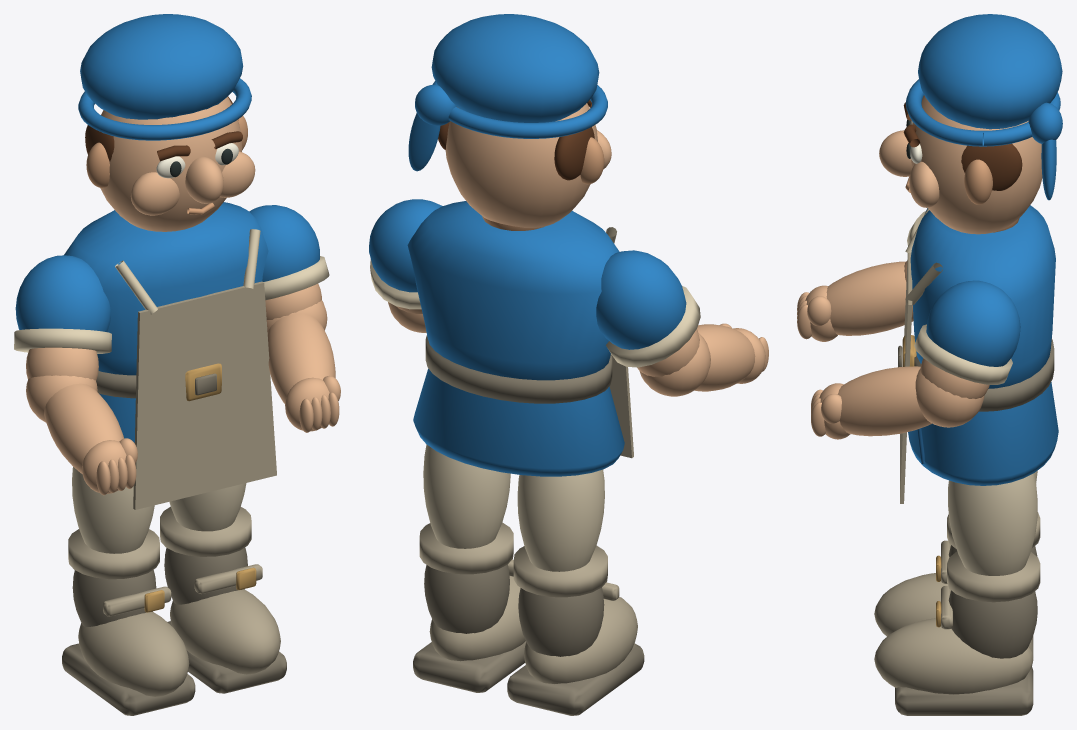
Rendered from tuinier_oogsten.glb.
The picture shows the model from 3 angles, left to right: view 1: azimuth 30°, elevation 25°; view 2: azimuth 150°, elevation 25°; view 3: azimuth 270°, elevation 25°; orthographic projection. The views are drawn at different scales.
Visible parts, largest first — view 1: Felt_work_apron.002, Tunic_torso.007, TEAM_Wool_work_cap.002, Head.007, Boot_toe.014, Boot_toe.015, Right_Sleeve.007, Trouser_leg.014, Right_Forearm.007, Left_Forearm.007, Left_Sleeve.007, TEAM_Rolled_cap_rim.002 (+26 smaller); view 2: Tunic_torso.007, Tunic_skirt.007, TEAM_Wool_work_cap.002, Head.007, Trouser_leg.014, Right_Sleeve.007, Trouser_leg.015, Boot_shaft.015, Boot_shaft.014, Belt.007, Boot_toe.014, Boot_sole.014 (+17 smaller); view 3: TEAM_Wool_work_cap.002, Tunic_torso.007, Tunic_skirt.007, Boot_toe.015, Trouser_leg.015, Head.007, Left_Sleeve.007, Left_Forearm.007, Right_Forearm.007, Boot_shaft.015, Boot_sole.015, Boot_cuff.015 (+19 smaller).
Boxes of the visible parts, <box> form: Felt_work_apron.002: <box>133,281,276,509</box>; Tunic_torso.007: <box>64,202,268,375</box>; TEAM_Wool_work_cap.002: <box>80,14,243,119</box>; Head.007: <box>100,97,242,231</box>; Boot_toe.014: <box>78,612,189,696</box>; Boot_toe.015: <box>170,589,280,674</box>; Right_Sleeve.007: <box>15,255,110,331</box>; Trouser_leg.014: <box>72,467,154,553</box>; Right_Forearm.007: <box>44,383,123,473</box>; Left_Forearm.007: <box>267,314,335,403</box>; Left_Sleeve.007: <box>249,205,319,281</box>; TEAM_Rolled_cap_rim.002: <box>78,78,251,140</box>; Tunic_torso.007: <box>407,201,619,380</box>; Tunic_skirt.007: <box>413,368,624,476</box>; TEAM_Wool_work_cap.002: <box>431,14,599,122</box>; Head.007: <box>445,103,597,227</box>; Trouser_leg.014: <box>517,469,604,571</box>; Right_Sleeve.007: <box>596,250,686,349</box>; Trouser_leg.015: <box>423,444,510,548</box>; Boot_shaft.015: <box>424,564,509,633</box>; Boot_shaft.014: <box>518,587,604,656</box>; Belt.007: <box>425,335,612,403</box>; Boot_toe.014: <box>524,596,637,683</box>; Boot_sole.014: <box>507,643,644,715</box>; TEAM_Wool_work_cap.002: <box>918,14,1062,129</box>; Tunic_torso.007: <box>910,205,1055,388</box>; Tunic_skirt.007: <box>908,382,1058,485</box>; Boot_toe.015: <box>874,618,1033,694</box>; Trouser_leg.015: <box>948,473,1037,575</box>; Head.007: <box>911,95,1042,234</box>; Left_Sleeve.007: <box>926,280,1020,366</box>; Left_Forearm.007: <box>837,366,931,436</box>; Right_Forearm.007: <box>826,261,913,335</box>; Boot_shaft.015: <box>948,590,1037,658</box>; Boot_sole.015: <box>895,667,1033,715</box>; Boot_cuff.015: <box>947,551,1040,602</box>.
Bounding box in the file's own units: 1.05 × 2.08 × 0.768.
